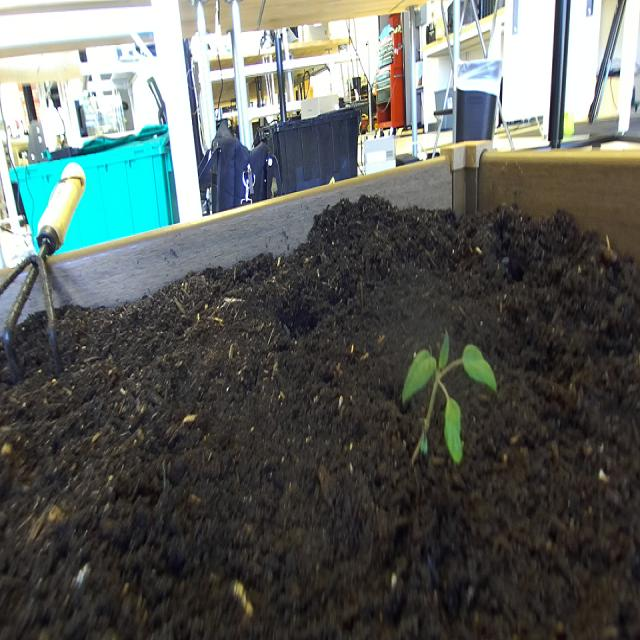Healthy: (401, 324, 498, 469)
